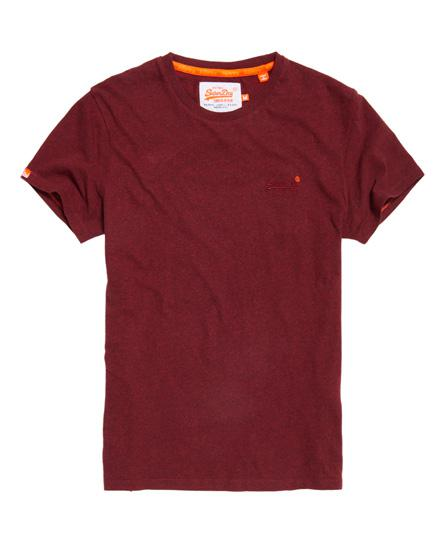teeshirt: (14, 50, 435, 504)
